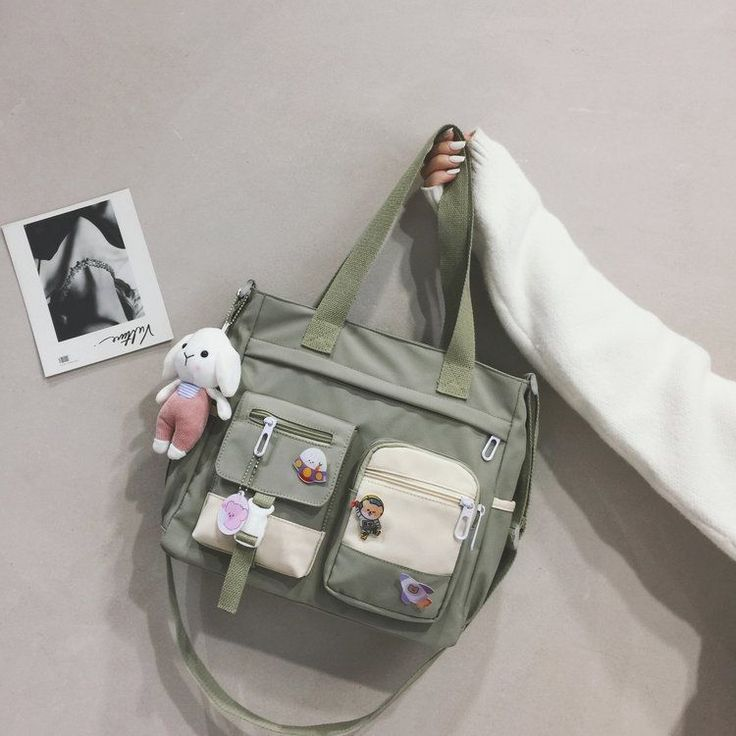nylon: (158, 124, 542, 736)
